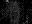person: (5, 0, 9, 4)
